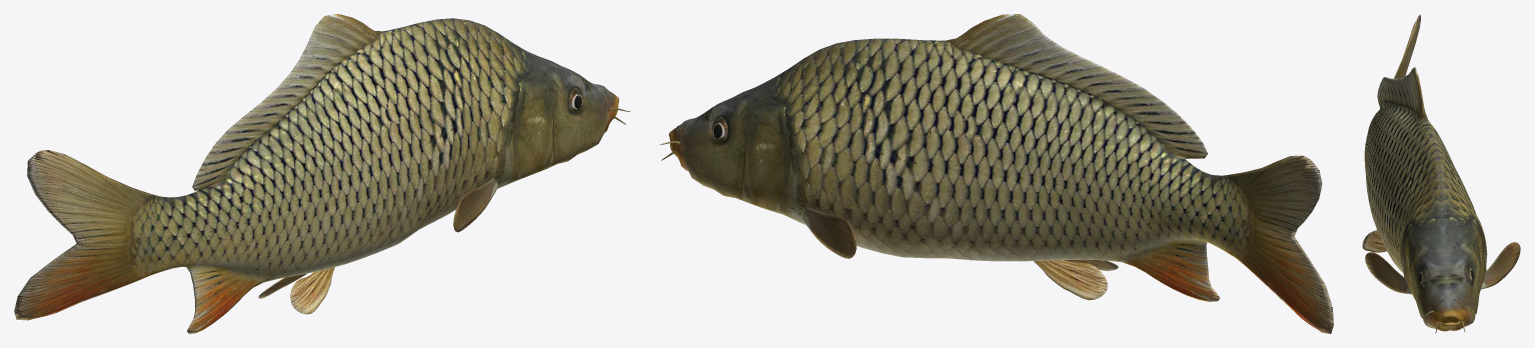
Rendered from carp.glb.
3 views of the same model, side by side, from view 1: azimuth 30°, elevation 25°; view 2: azimuth 150°, elevation 25°; view 3: azimuth 270°, elevation 25° (orthographic). The views are drawn at different scales.
Parts seen in each view (by area): view 1: Object_9.001; view 2: Object_9.001; view 3: Object_9.001.
Boxes of the visible parts, box(x1,y1,x2,y2) form: Object_9.001: box(14, 14, 630, 333); Object_9.001: box(659, 14, 1333, 333); Object_9.001: box(1362, 14, 1520, 333).
Size of the model in its own units: 1 by 0.405 by 0.2886.
Materials: 1 (1 with a texture image).
